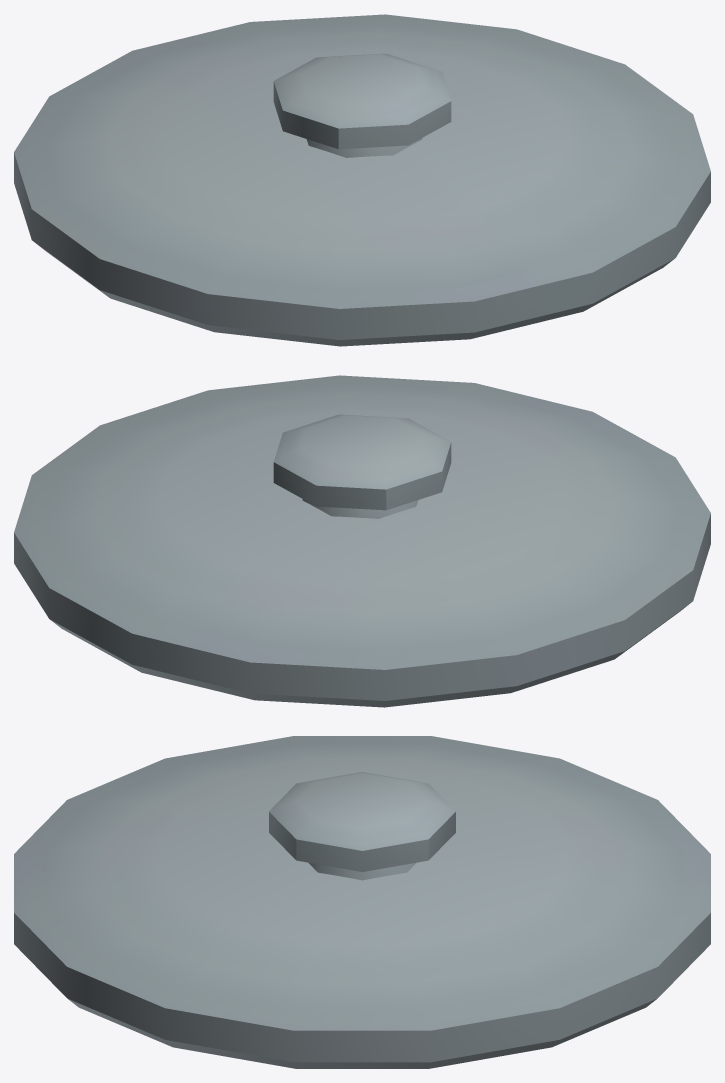
The model's file is kkr.lid_a.glb.
The picture shows the model from 3 angles, top to bottom: view 1: azimuth 30°, elevation 25°; view 2: azimuth 150°, elevation 25°; view 3: azimuth 270°, elevation 25°; orthographic projection.
Parts seen in each view (by area): view 1: lid_A; view 2: lid_A; view 3: lid_A.
Boxes of the visible parts, box(x1,y1,x2,y2) form: lid_A: box(14, 14, 710, 346); lid_A: box(14, 375, 710, 707); lid_A: box(14, 736, 710, 1068).
Size of the model in its own units: 0.2757 by 0.0552 by 0.2757.
Materials: 1 (1 with a texture image).
